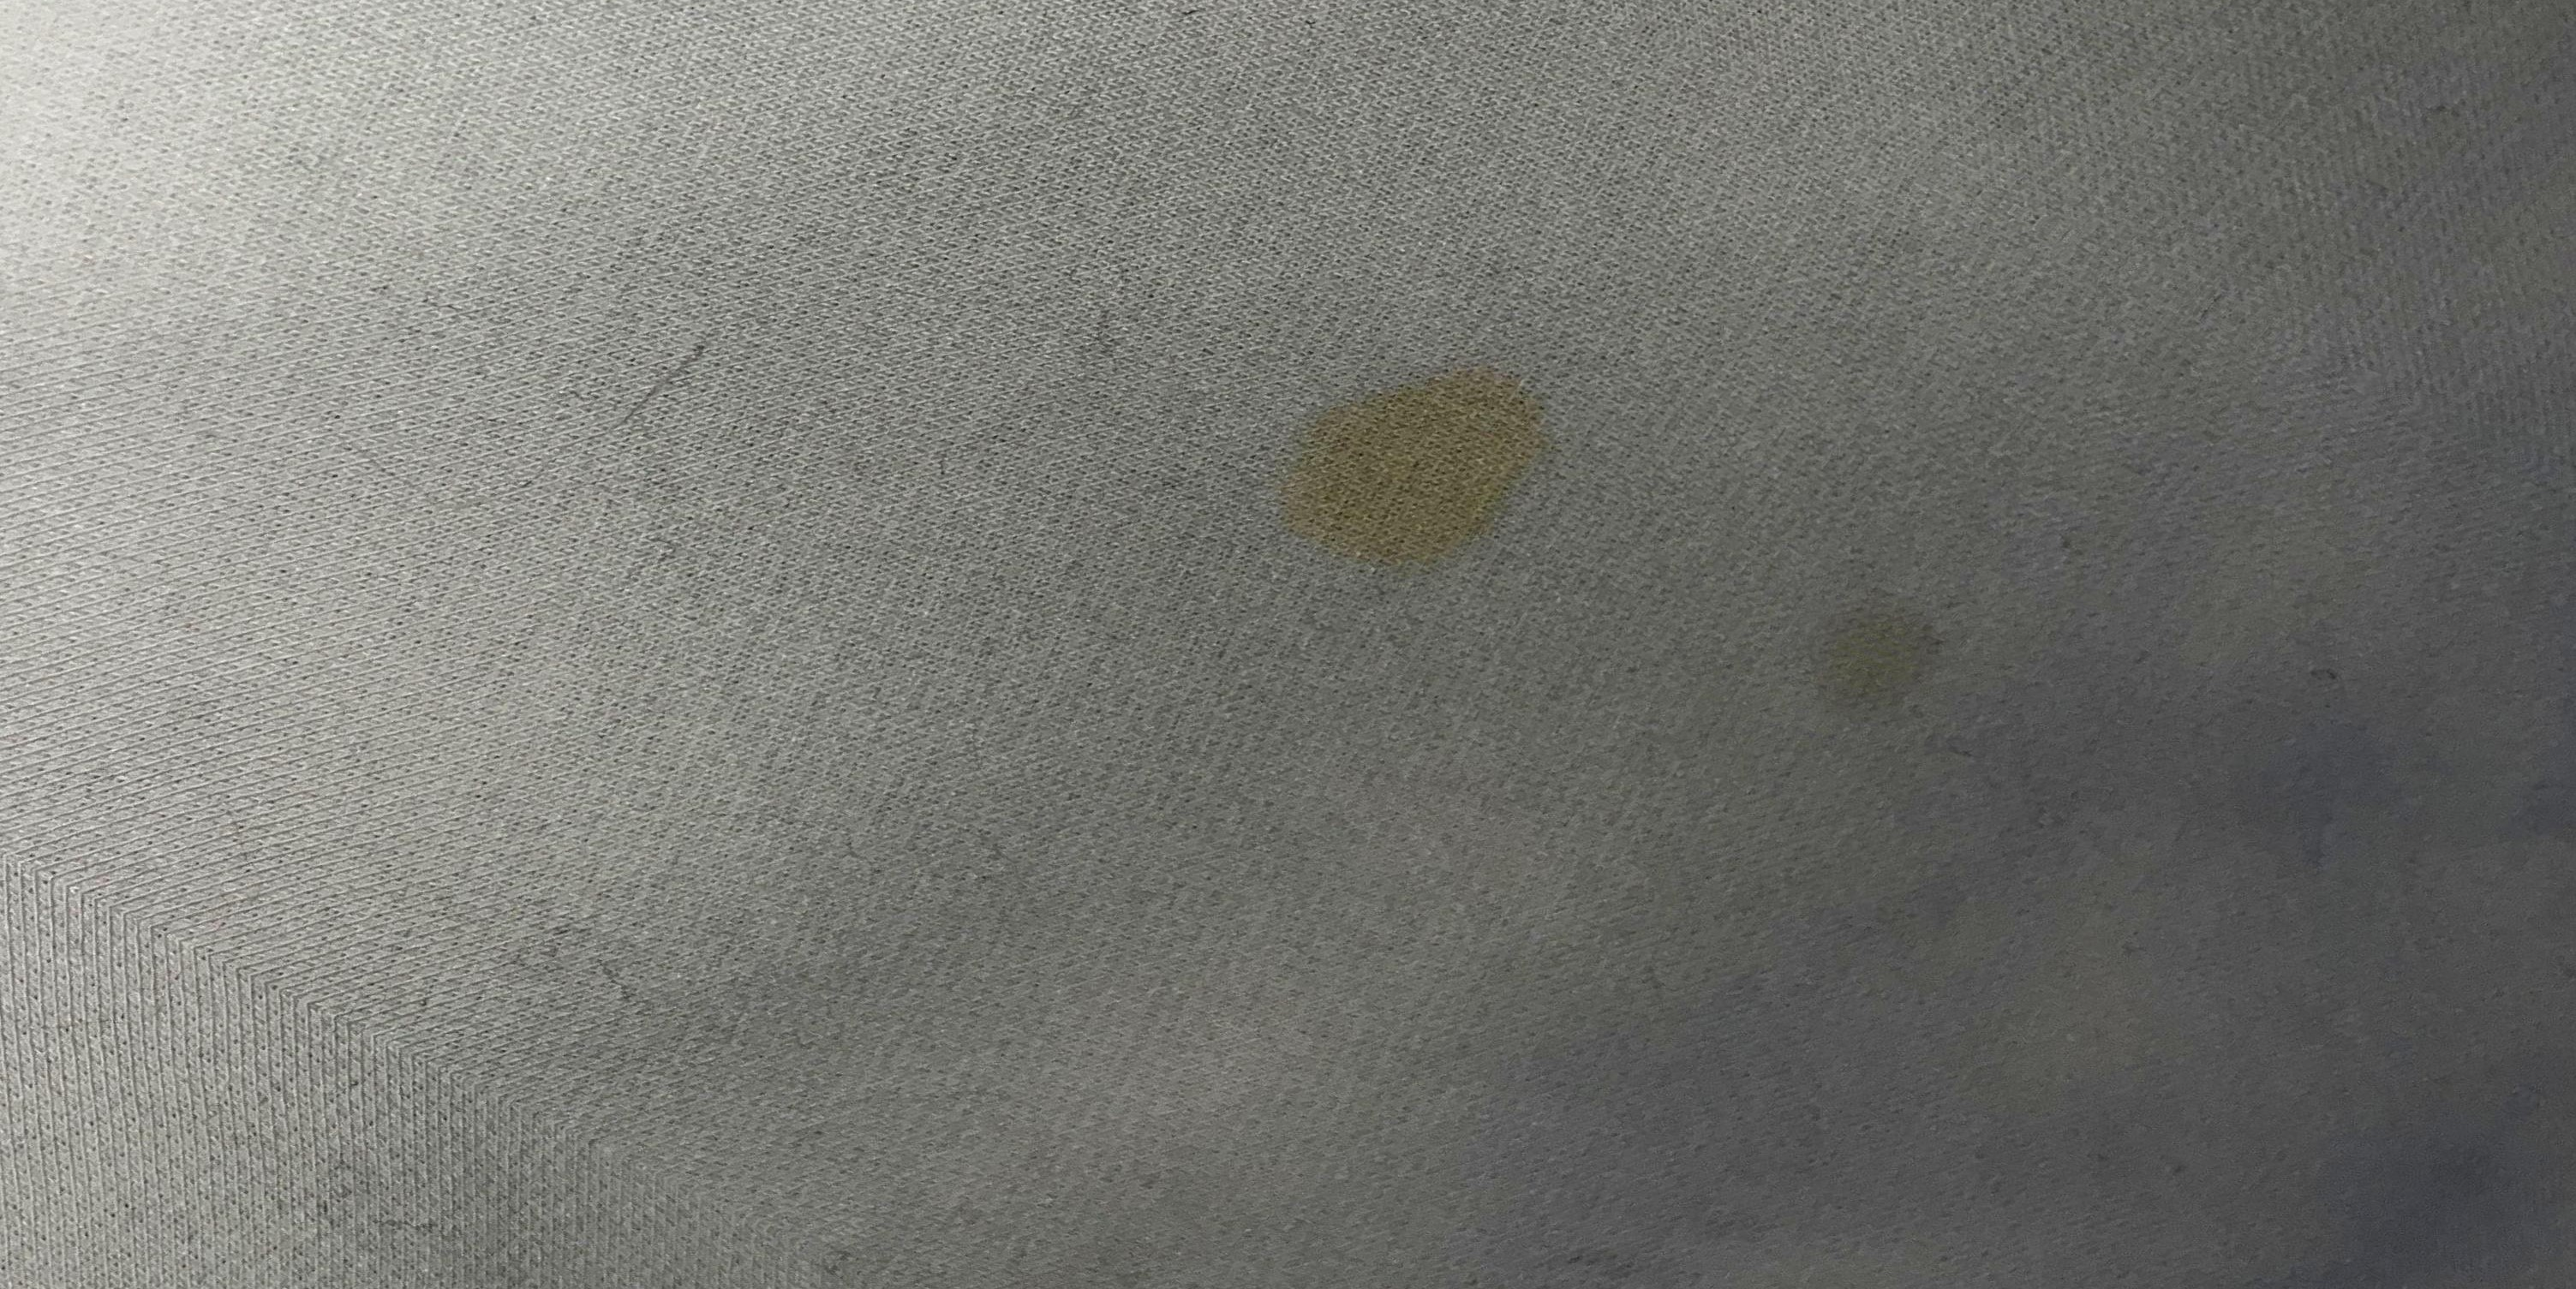stain: (1244, 350, 1570, 597), (1789, 571, 1951, 720)
